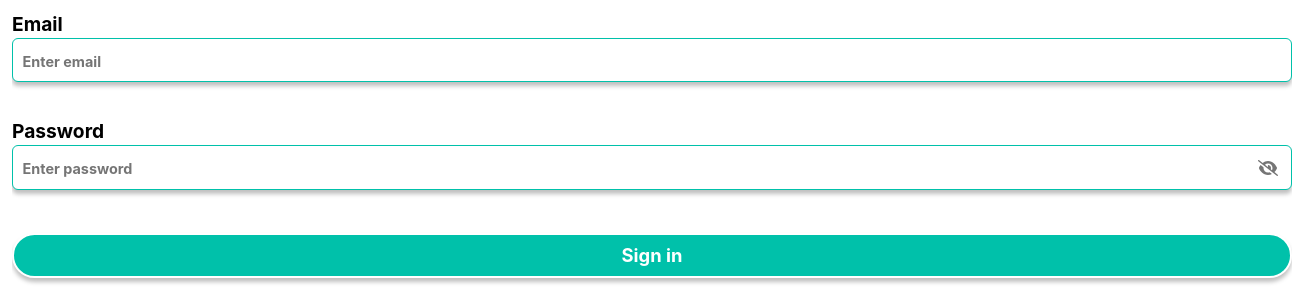
LoginForm Component › Displays error messages when form fields are invalid
Click the button "Sign in". click: (652, 255)
box: [12,233,1292,278]
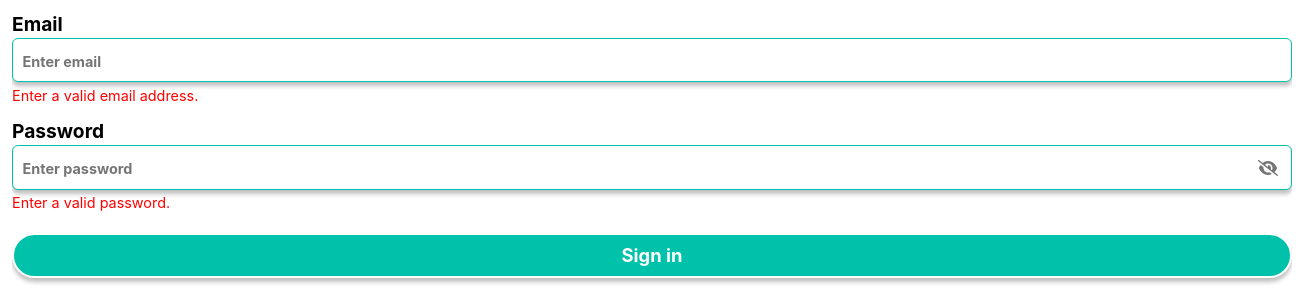
Expected: the text "Enter a valid email address." is shown, [12,87,198,104]
Expected: the text "Enter a valid password." is shown, [12,194,170,211]
